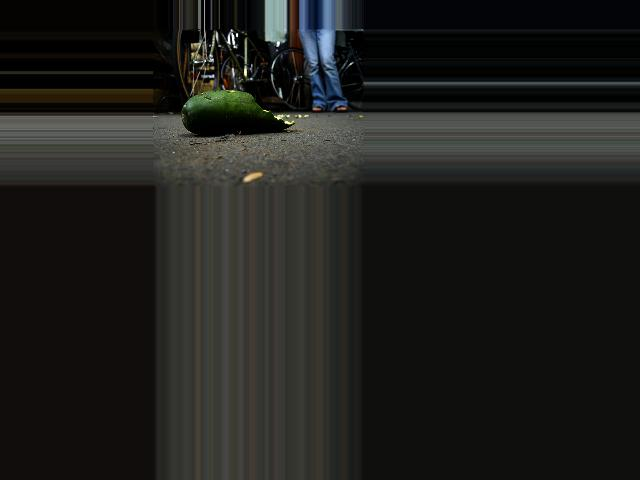cucumber: (181, 90, 296, 134)
